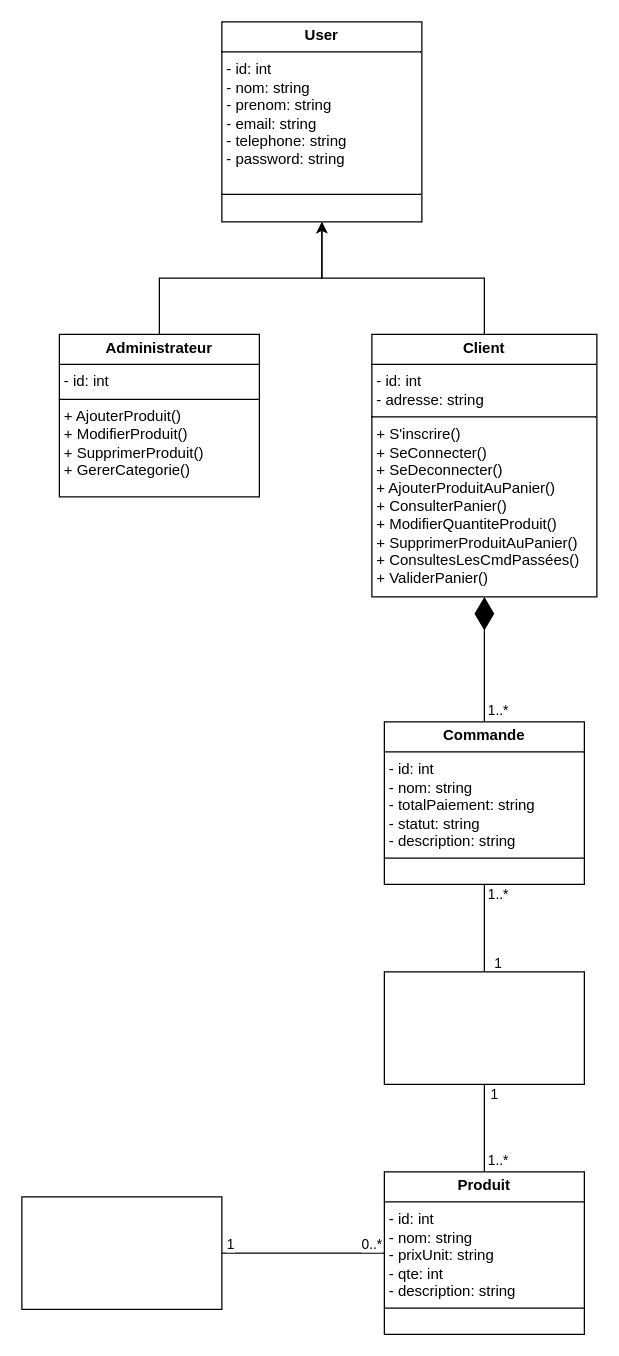
The diagram is 619 pixels wide and 1356 high, and some of its shapes have lost their labels. The shapes that lost their labels are listed below. From the top down, each one's box as (x1, y1, x2, y2) in pixels, then its label:
(383, 971, 584, 1084): CmdItem - quantity: int - prix: double
(21, 1196, 222, 1309): Categorie - id: int - nom: string
